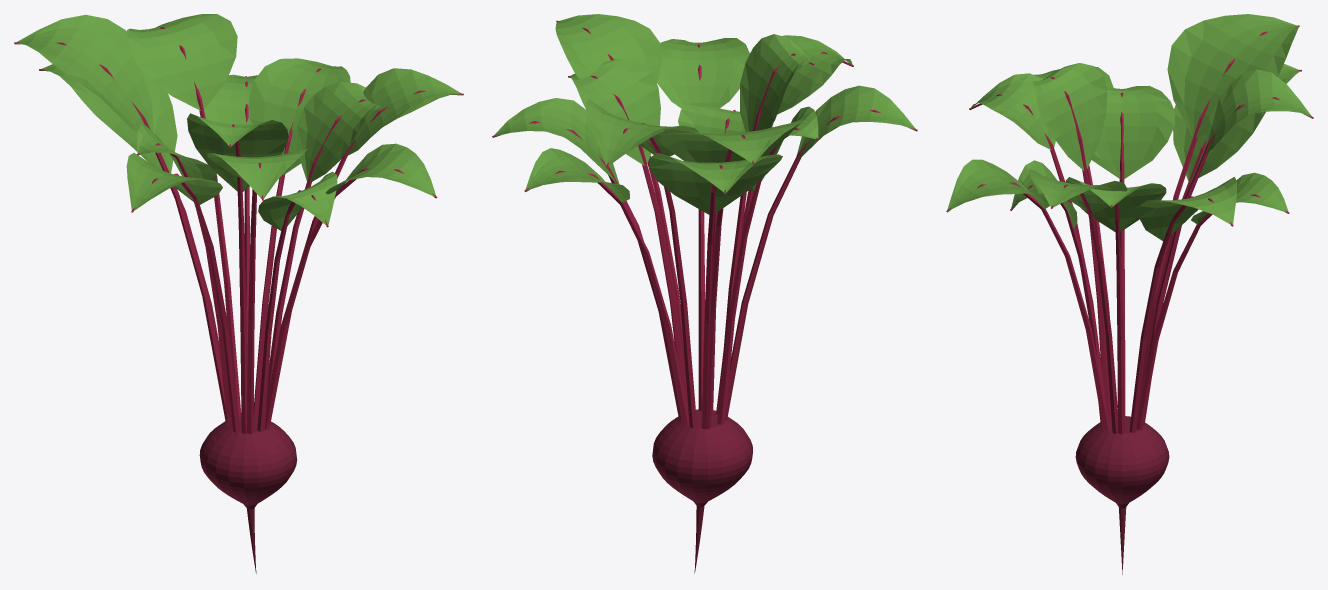
The model's file is beetroot_harvest_v01.glb.
3 renders of one model, left to right at view 1: azimuth 30°, elevation 25°; view 2: azimuth 150°, elevation 25°; view 3: azimuth 270°, elevation 25°, orthographic. The views are drawn at different scales.
Visible parts, largest first — view 1: plant; view 2: plant; view 3: plant.
Boxes of the visible parts, <box> form: plant: <box>14,14,463,573</box>; plant: <box>492,14,917,573</box>; plant: <box>946,14,1313,574</box>.
Size of the model in its own units: 0.3028 by 0.4385 by 0.296.
1 material, 1 textured.
